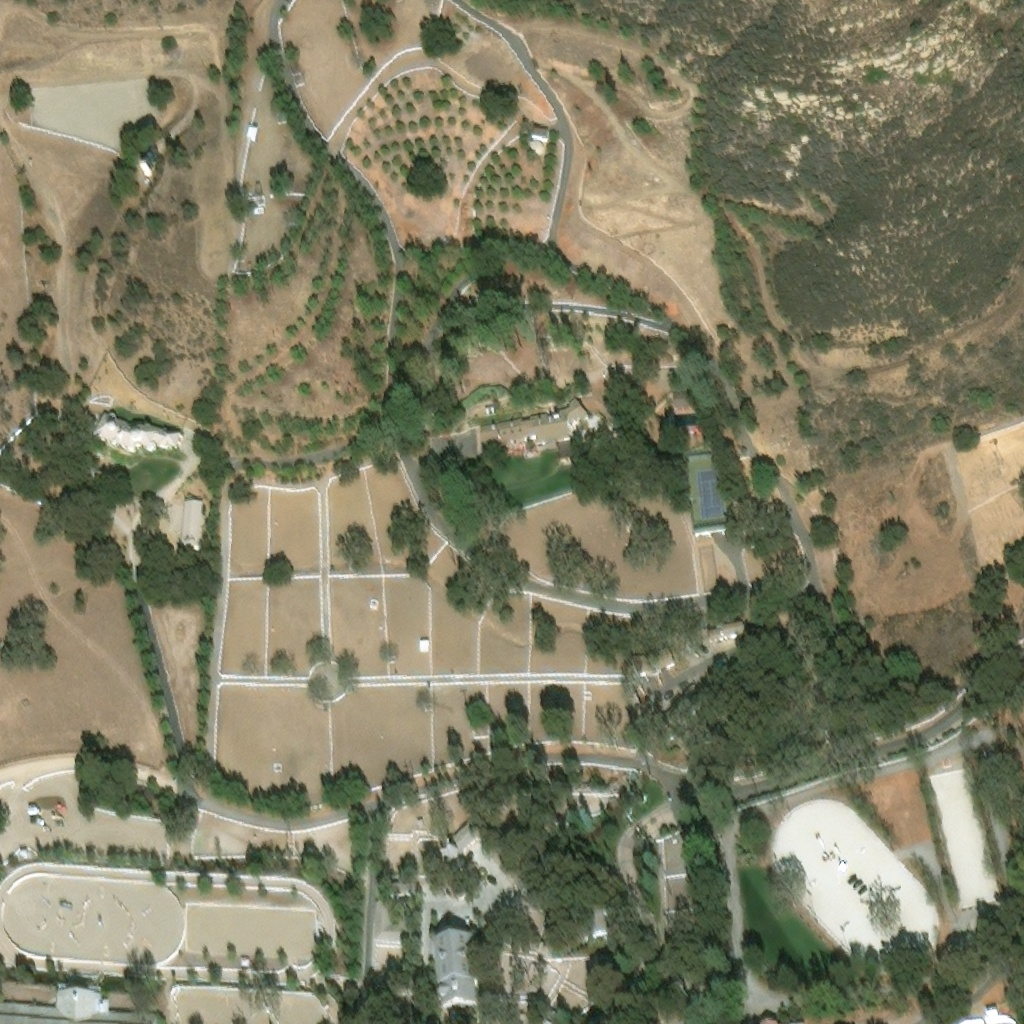0 no-damage: (480, 396, 590, 463), (0, 990, 166, 1023), (433, 929, 482, 1020), (573, 912, 611, 950), (733, 495, 777, 524), (451, 818, 488, 852), (671, 382, 708, 409), (442, 844, 465, 868), (533, 127, 550, 142), (531, 141, 545, 155), (247, 126, 259, 142), (420, 640, 431, 653), (485, 406, 497, 416), (241, 958, 252, 967), (20, 851, 32, 859)
